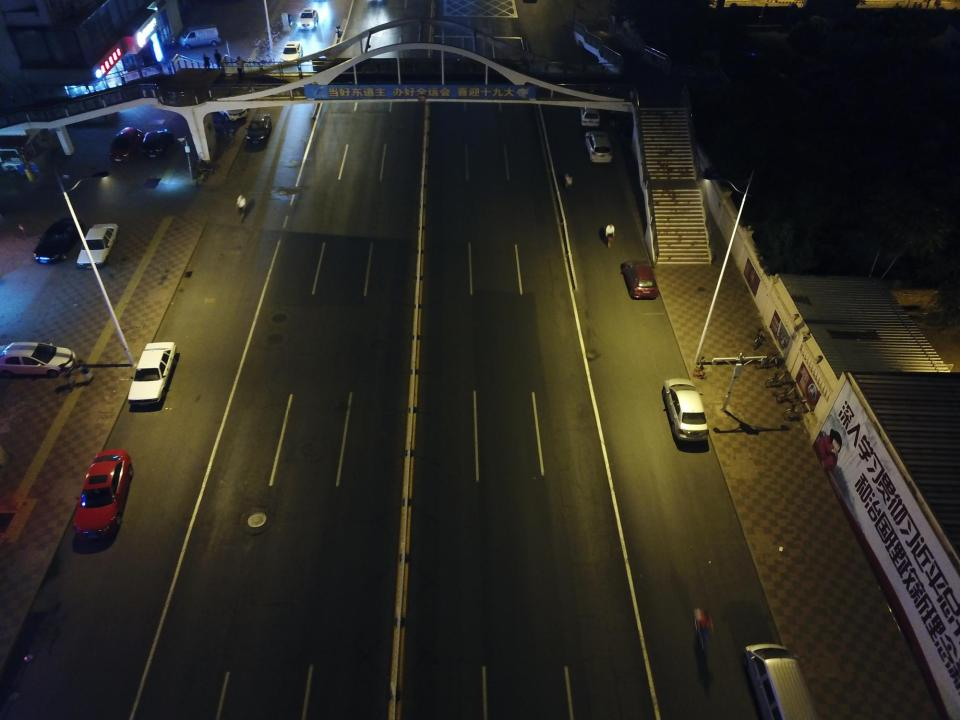car: (72, 448, 134, 542), (127, 341, 178, 406), (662, 378, 710, 441), (0, 342, 77, 378), (32, 216, 84, 264), (76, 223, 118, 269), (622, 258, 660, 300), (108, 127, 144, 162), (139, 128, 175, 160), (584, 130, 614, 162), (216, 94, 248, 122), (245, 113, 272, 144), (279, 40, 303, 68), (580, 97, 600, 128), (296, 8, 318, 30)
van: (742, 642, 820, 720), (179, 23, 221, 51)
